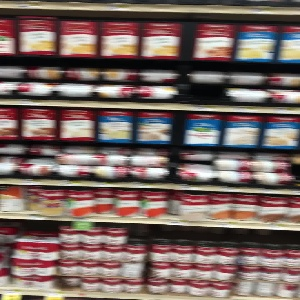void: (182, 74, 229, 105)
